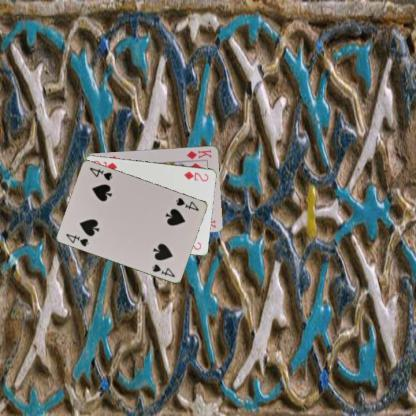2d: (181, 168, 210, 183)
4s: (174, 195, 200, 212), (64, 231, 90, 247)
Kd: (184, 147, 213, 160)
